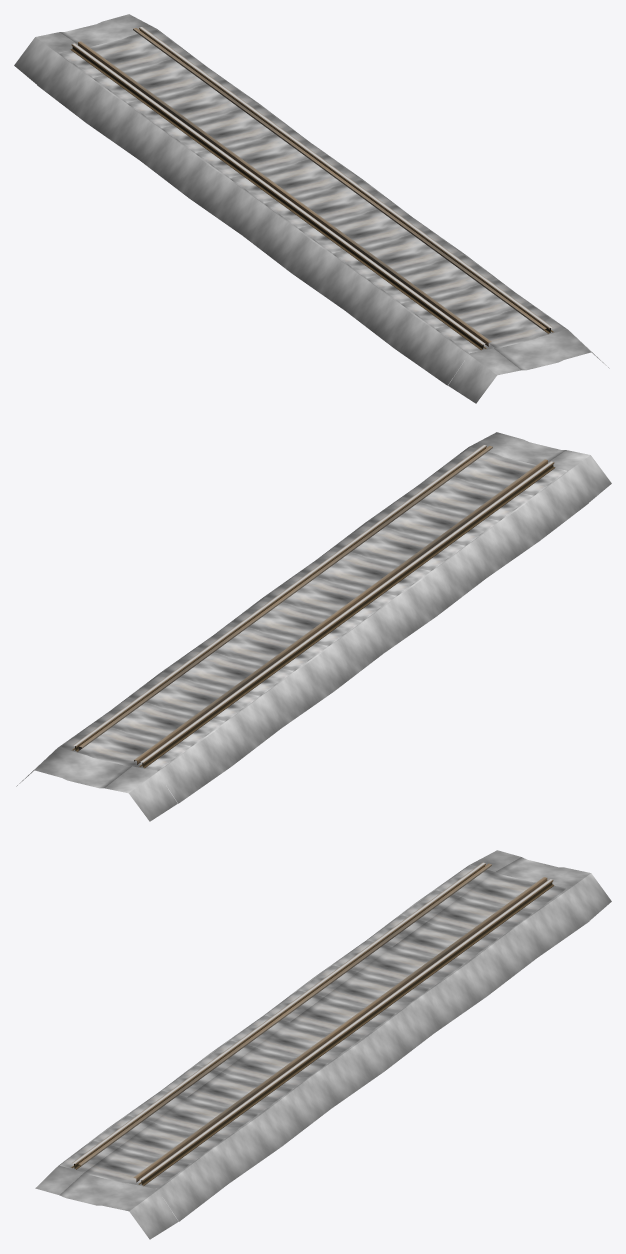
Rendered from HT_1RAIL_50.glb.
The picture shows the model from 3 angles, top to bottom: view 1: azimuth 30°, elevation 25°; view 2: azimuth 150°, elevation 25°; view 3: azimuth 330°, elevation 25°; orthographic projection.
Visible parts, largest first — view 1: obj2, R000_RG_R1, R000_RG_L1; view 2: obj2, R000_RG_R1, R000_RG_L1; view 3: obj2, R000_RG_L1, R000_RG_R1.
Part boxes in pixels (box(x1,y1,x2,y2)): obj2: box(14, 14, 609, 403); R000_RG_R1: box(78, 41, 491, 346); R000_RG_L1: box(133, 28, 546, 330); obj2: box(16, 432, 611, 821); R000_RG_R1: box(134, 459, 547, 764); R000_RG_L1: box(78, 446, 492, 750); obj2: box(35, 850, 611, 1239); R000_RG_L1: box(133, 877, 547, 1182); R000_RG_R1: box(78, 863, 491, 1166).
Bounding box in the file's own units: 10.12 × 2.22 × 56.25.
6 materials, 5 textured.
